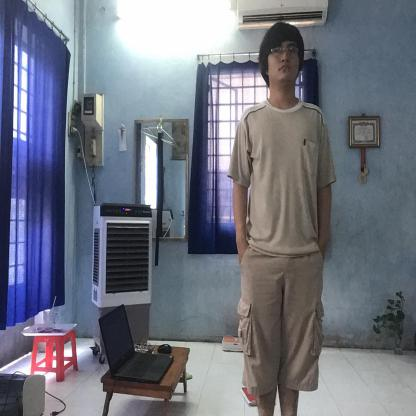person: (228, 25, 339, 414)
